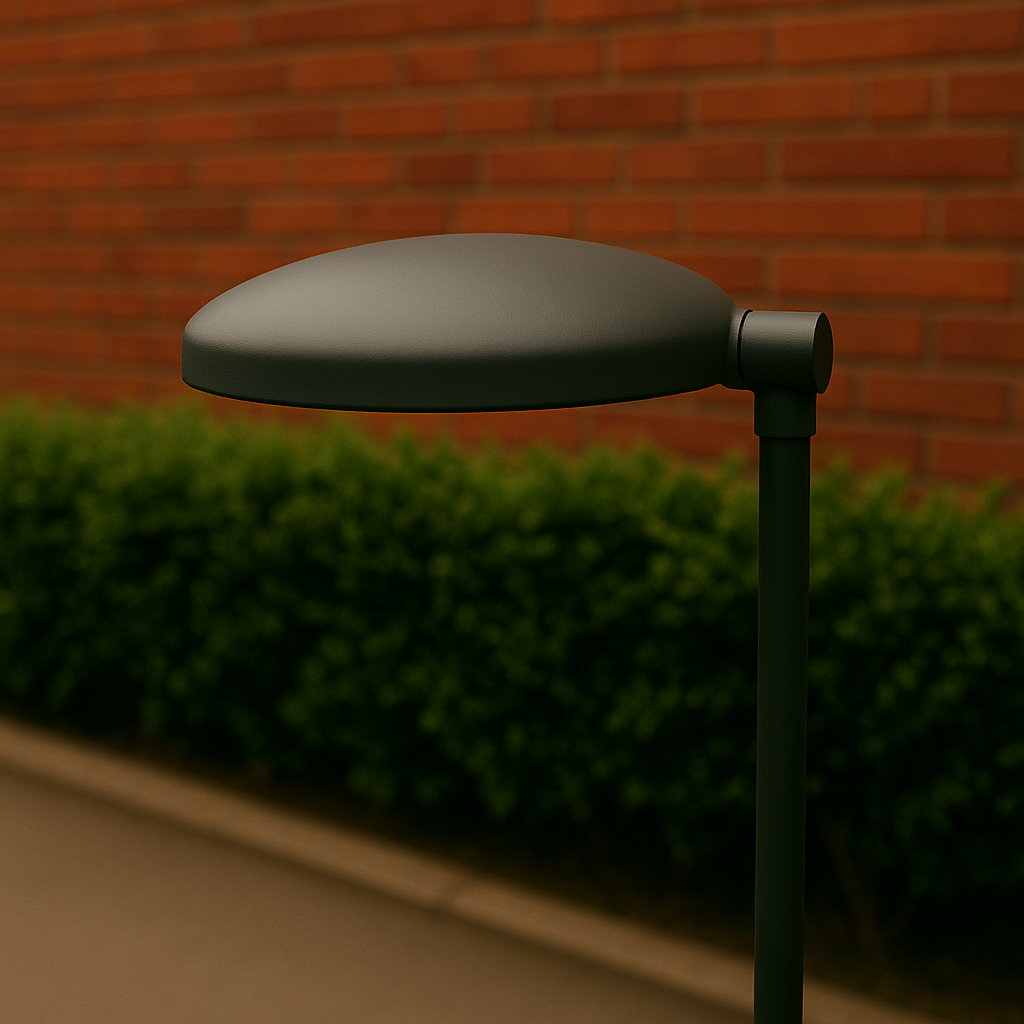Top_Street_Light: (162, 221, 751, 413)
